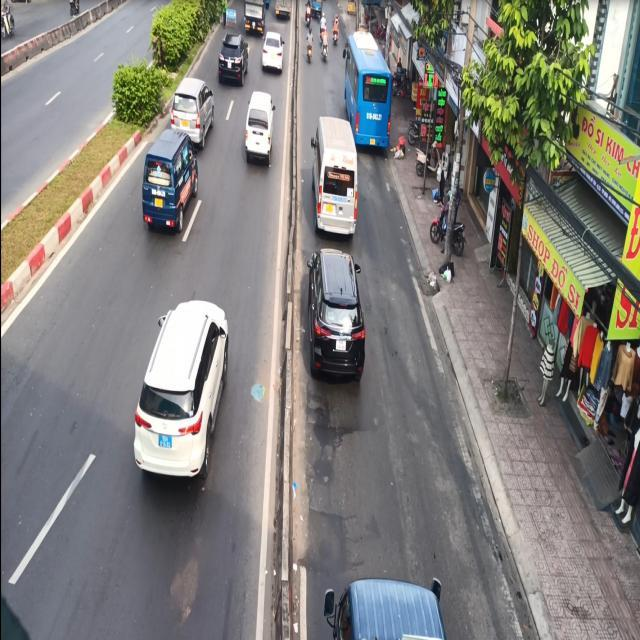bus: (342, 30, 393, 150)
car: (132, 299, 229, 479), (306, 247, 365, 382), (323, 576, 446, 639), (140, 127, 198, 234), (310, 115, 359, 236)
